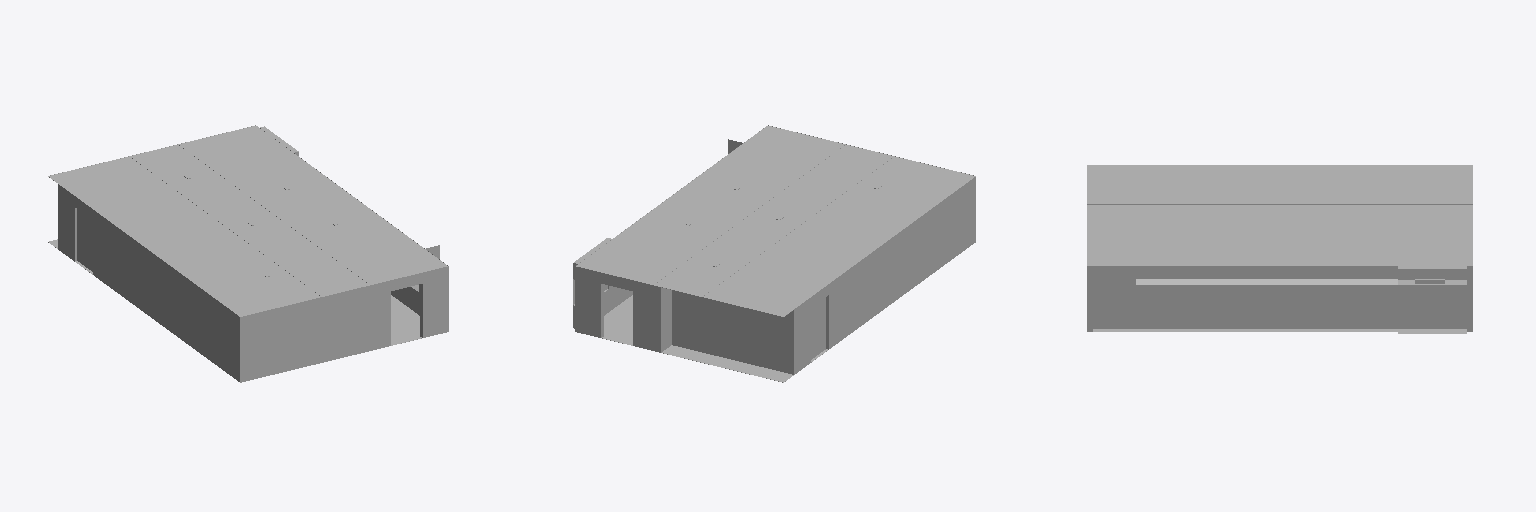
The model's file is LC_cont2_650.obj.
3 renders of one model, left to right at view 1: azimuth 30°, elevation 25°; view 2: azimuth 150°, elevation 25°; view 3: azimuth 270°, elevation 25°, orthographic.
Parts seen in each view (by area): view 1: grp5, grp1, grp6, grp4, grp2, grp8; view 2: grp5, grp1, grp6, grp4, grp2, grp8; view 3: grp5, grp4, grp1, grp6, grp2.
Part boxes in pixels (x1,y1,x2,y2): grp5: (48, 125, 447, 315); grp1: (58, 126, 448, 382); grp6: (48, 239, 446, 382); grp4: (255, 126, 439, 315); grp2: (67, 156, 327, 244); grp8: (77, 209, 92, 271); grp5: (576, 125, 975, 316); grp1: (575, 126, 975, 374); grp6: (577, 242, 975, 382); grp4: (573, 139, 742, 328); grp2: (676, 181, 835, 305); grp8: (811, 298, 825, 359); grp5: (1087, 165, 1472, 265); grp4: (1093, 265, 1466, 333); grp1: (1087, 165, 1472, 331); grp6: (1093, 329, 1466, 331); grp2: (1196, 168, 1444, 234).
Size of the model in its own units: 1376 by 435 by 2048.